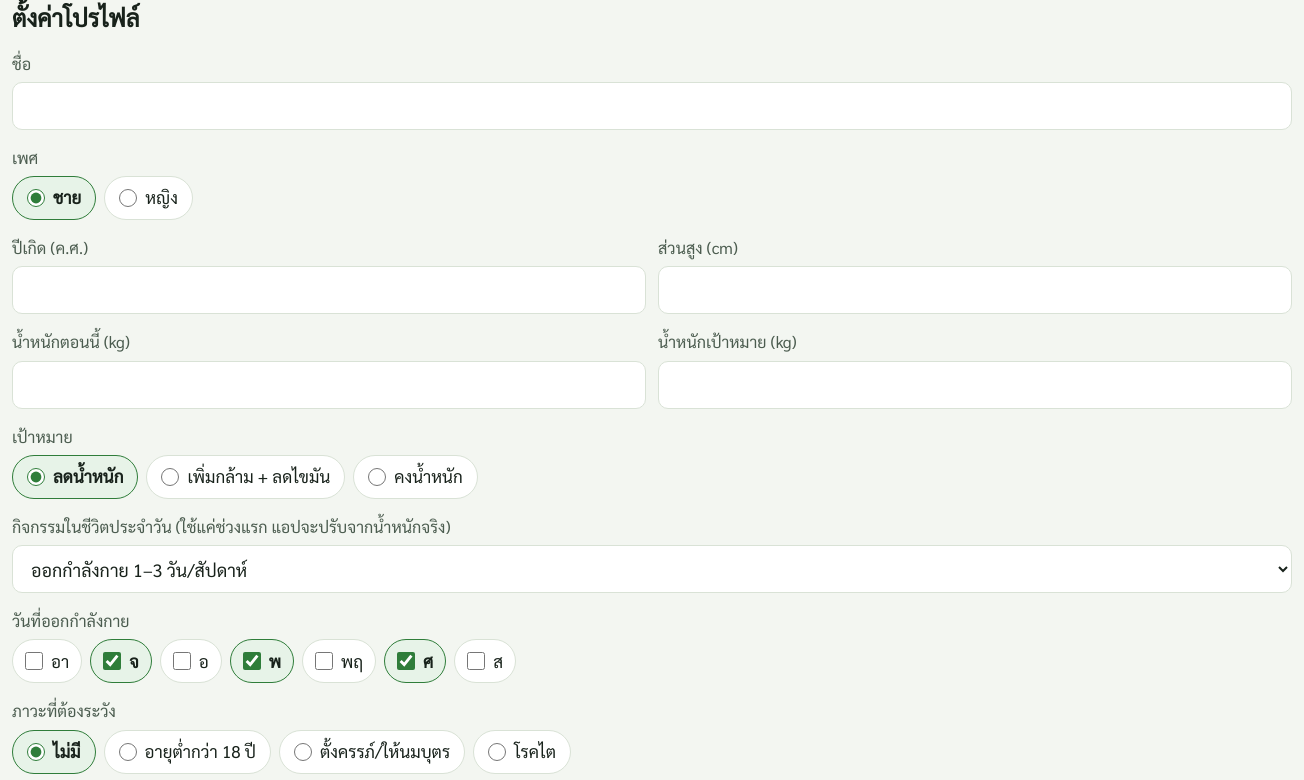
Scenario: ProfileSetup › kidney disease is saved as a special group and shows the doctor advice
Later steps or results of the test are not shown.
Step 1. Type "แม่" into the field labelled "ชื่อ" → coordinates (652, 106), box [12,82,1292,130]
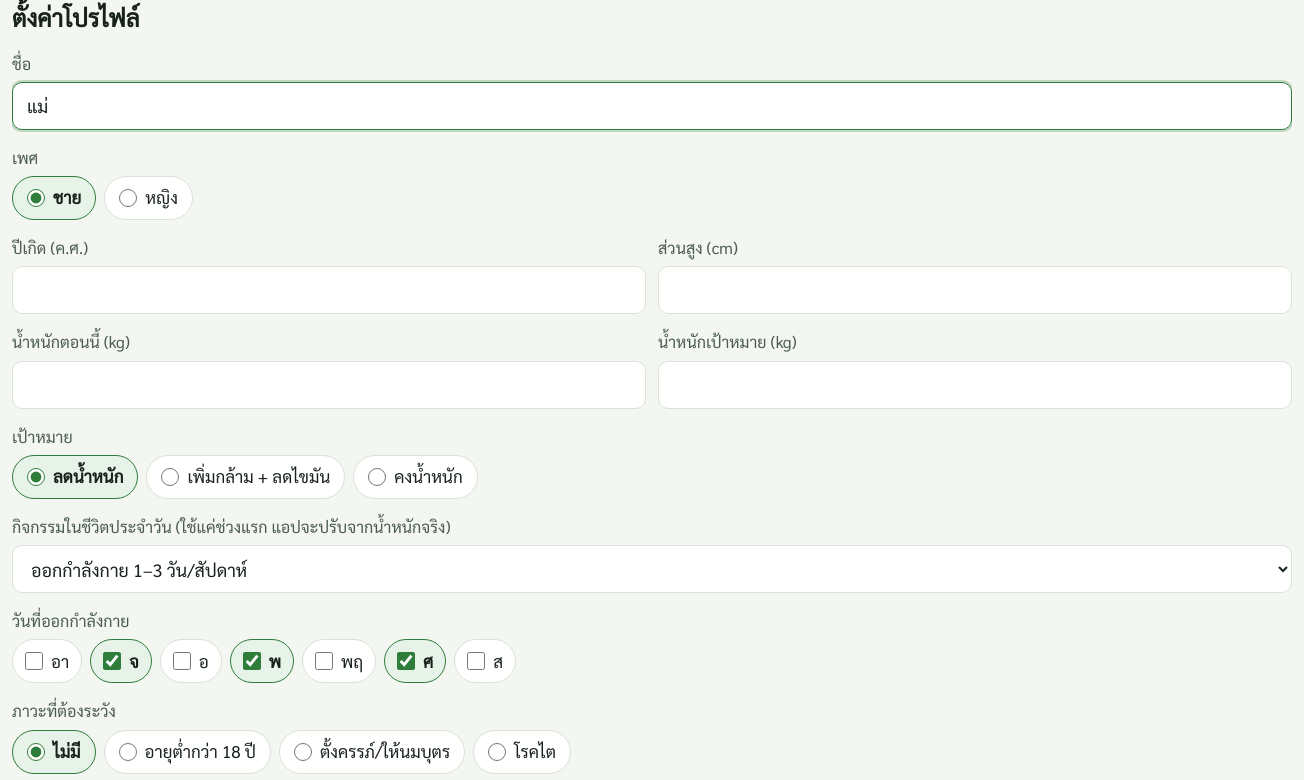
Step 2. Type "1970" into the number field labelled "ปีเกิด (ค.ศ.)" → coordinates (329, 290), box [12,266,646,314]
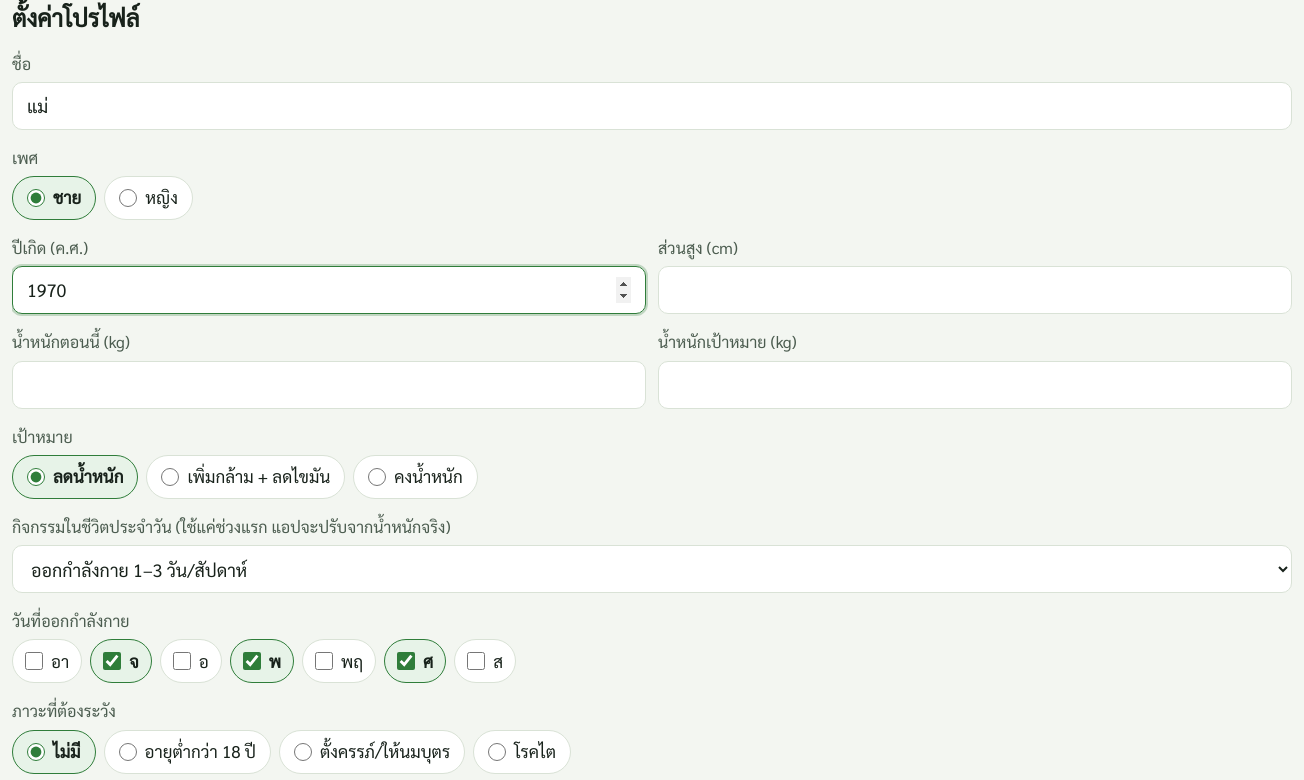
Step 3. Type "160" into the number field labelled "ส่วนสูง (cm)" → coordinates (975, 290), box [658,266,1292,314]
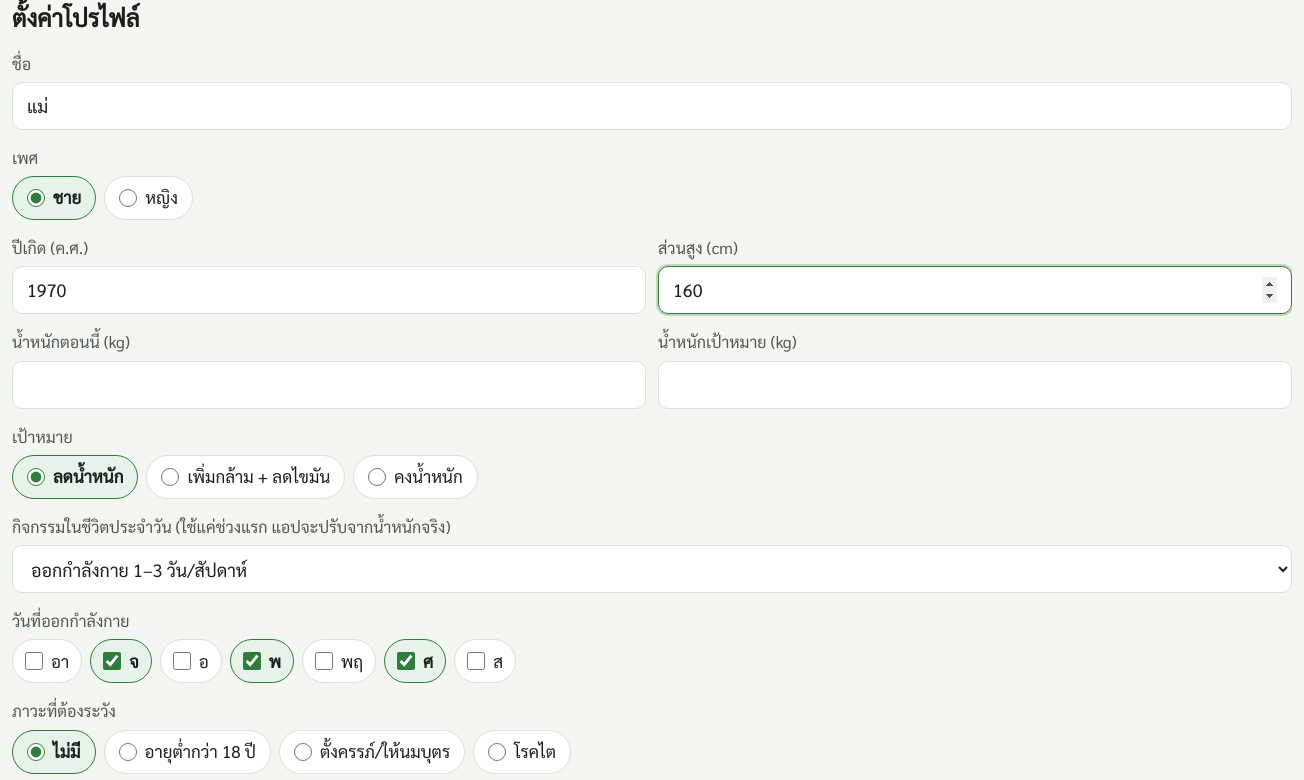
Step 4. Type "65" into the number field labelled "น้ำหนักตอนนี้ (kg)" → coordinates (329, 385), box [12,361,646,409]
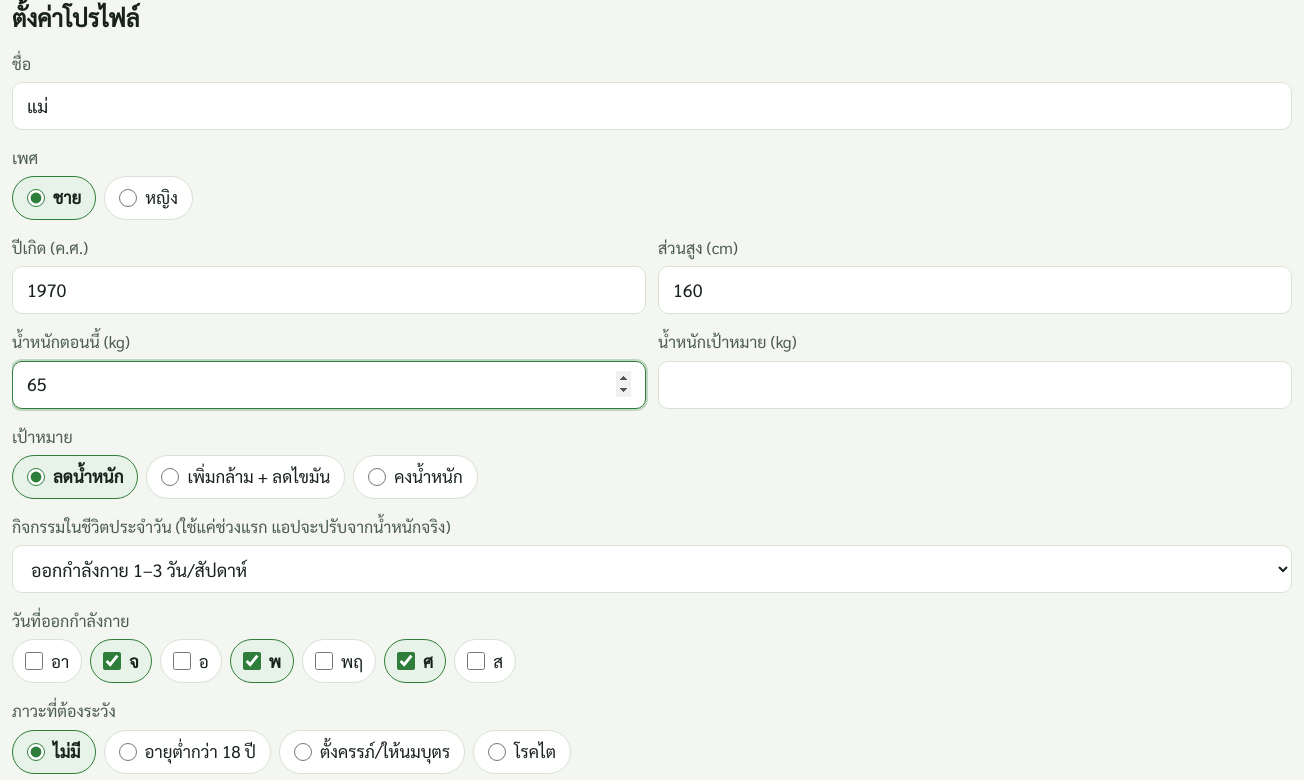
Step 5. Type "60" into the number field labelled "น้ำหนักเป้าหมาย (kg)" → coordinates (975, 385), box [658,361,1292,409]
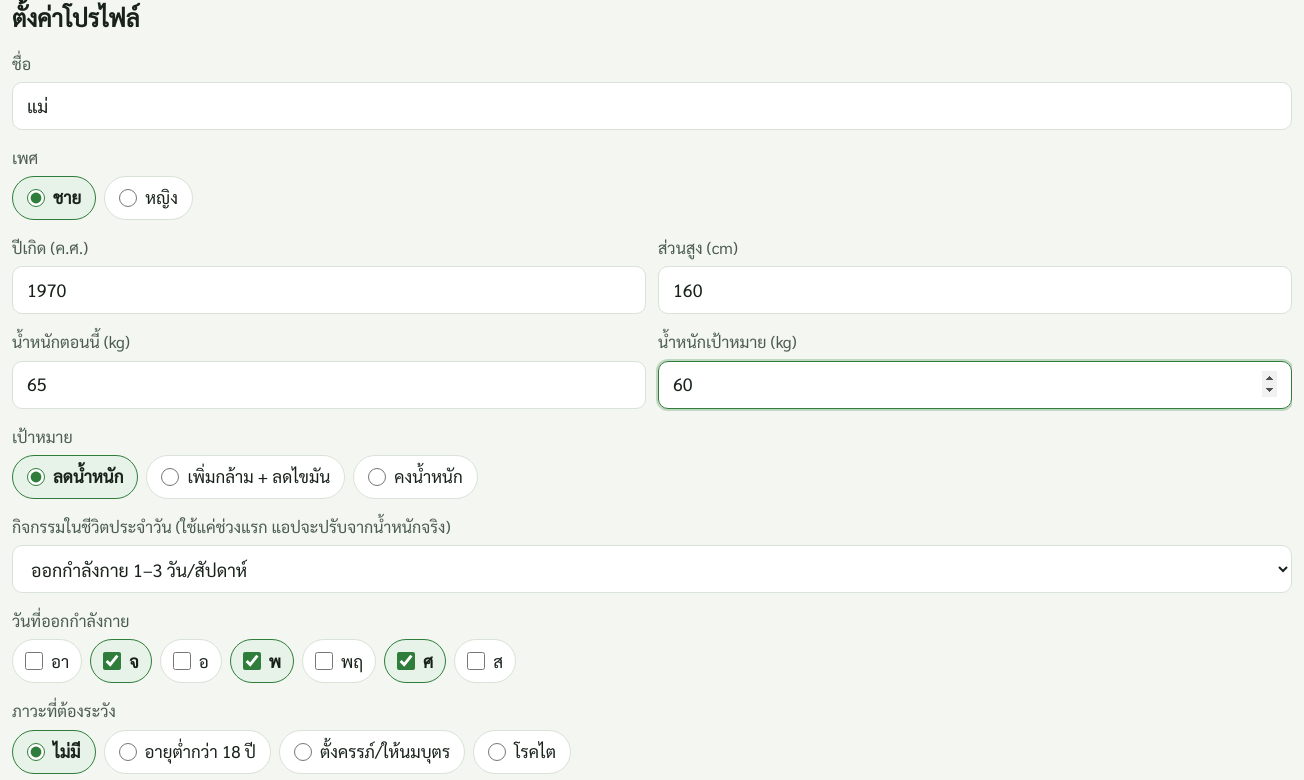
Step 6. Click the radio button labelled "โรคไต" → coordinates (497, 752), box [488,743,506,761]
(page scrolled)
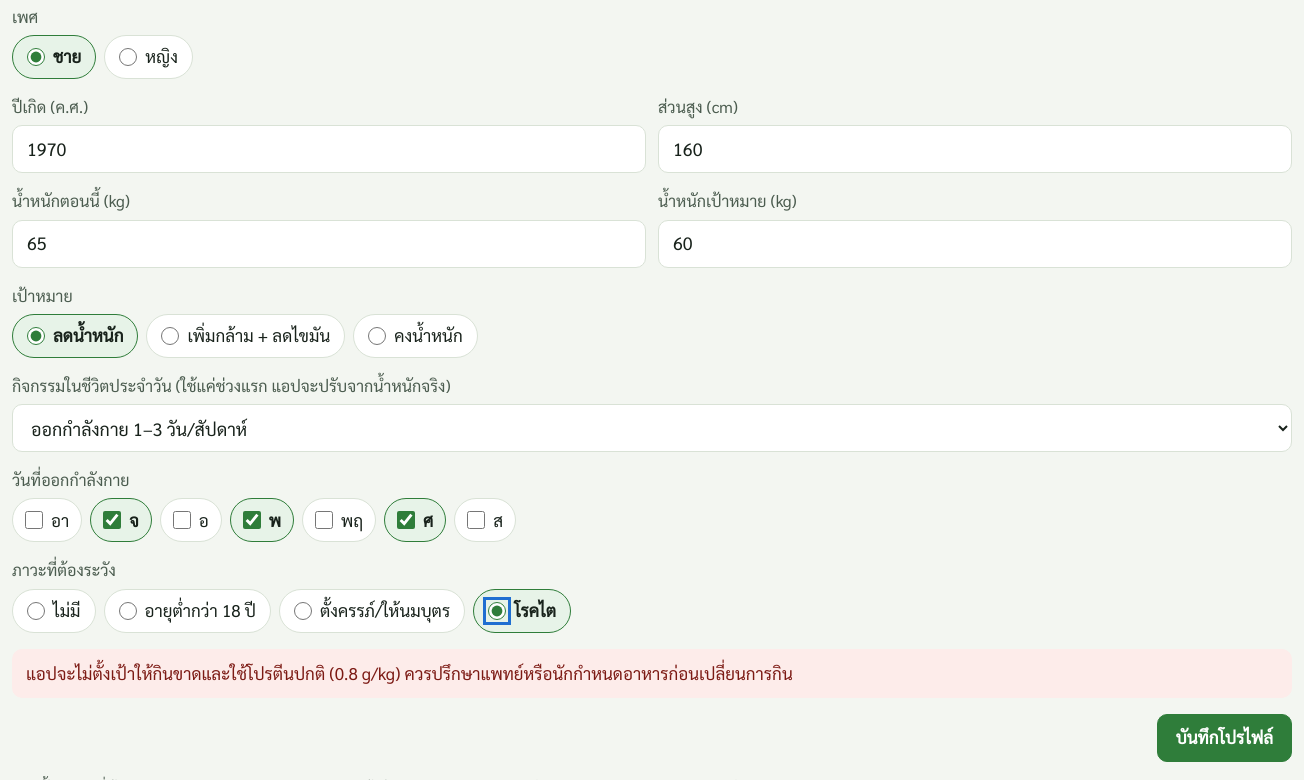
Expected: the text "ก่อนเปลี่ยนการกิน" is shown, [26,662,793,684]
